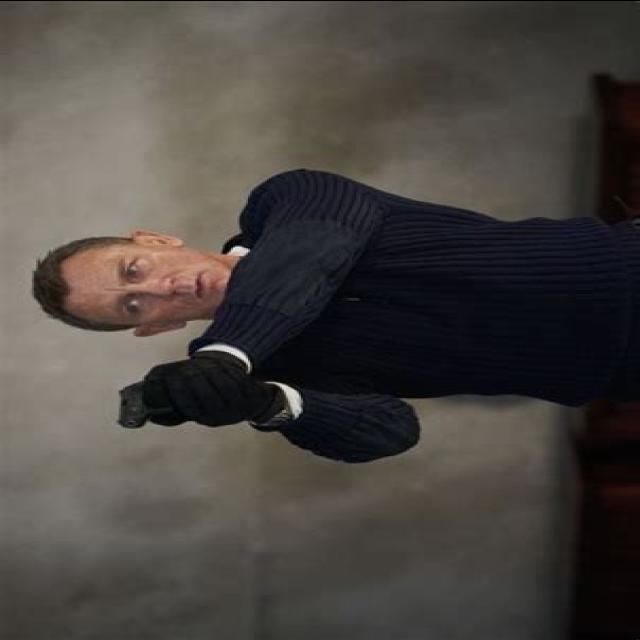weapons: (86, 366, 238, 450)
